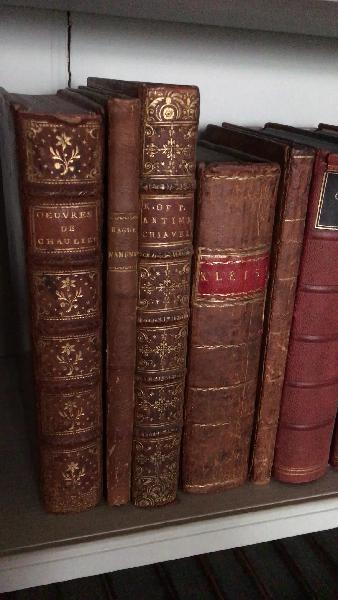Aa6-10: (248, 136, 312, 494)
Aa6-6: (18, 112, 110, 511)
Aa6-7: (98, 86, 140, 506)
Aa6-8: (137, 79, 187, 509)
Aa6-9: (187, 159, 279, 500)
